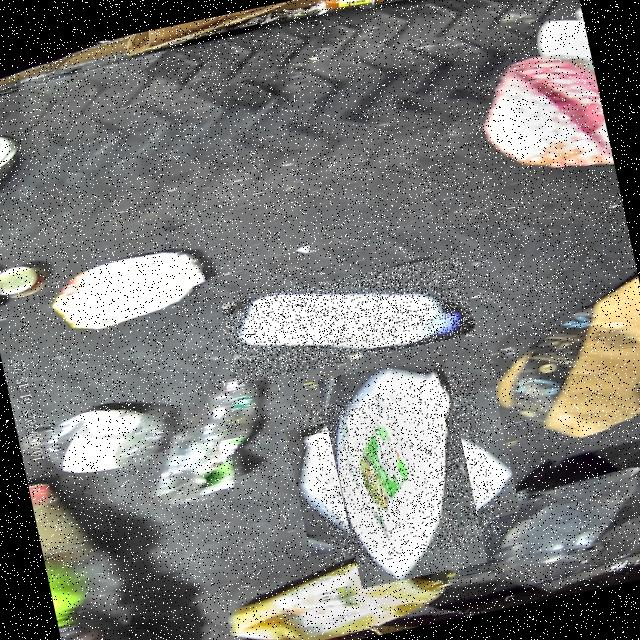milk-jug: (301, 369, 504, 571), (220, 252, 476, 384)
